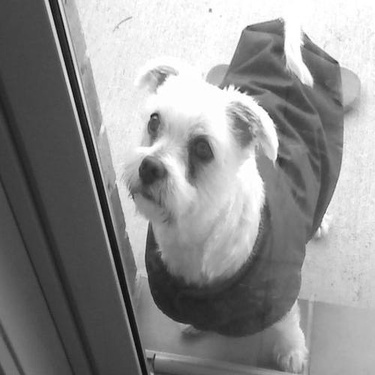dog: (104, 1, 365, 373)
